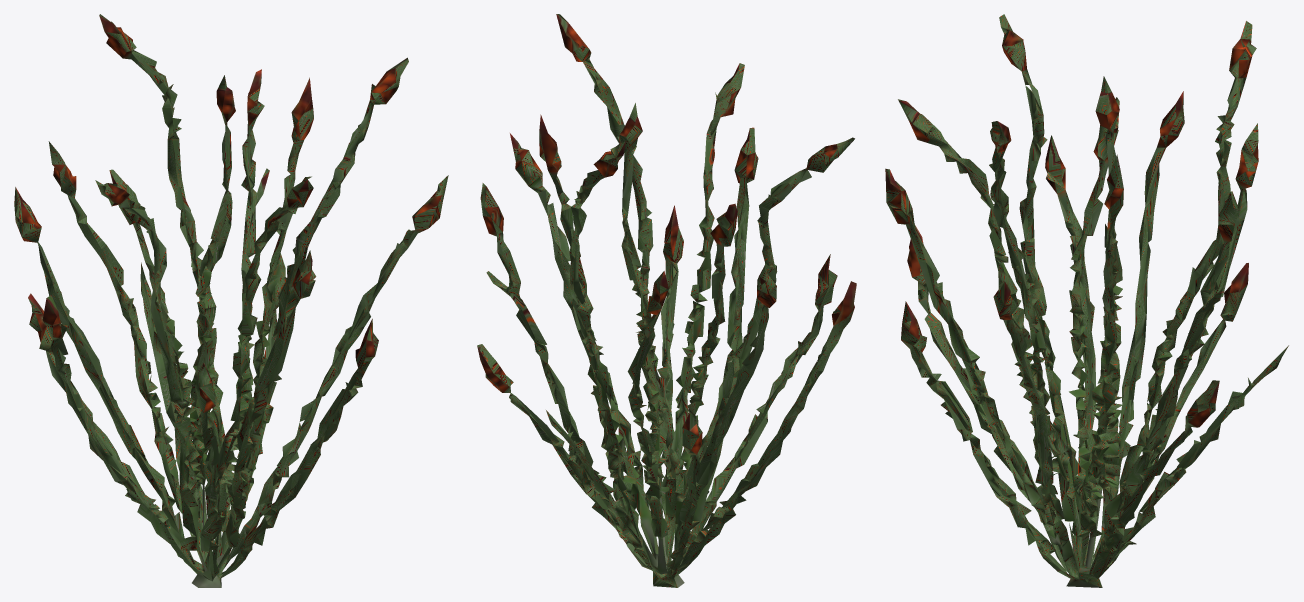
The model's file is ocotillo.glb.
3 views of the same model, side by side, from view 1: azimuth 30°, elevation 25°; view 2: azimuth 150°, elevation 25°; view 3: azimuth 270°, elevation 25° (orthographic). The views are drawn at different scales.
Parts seen in each view (by area): view 1: world; view 2: world; view 3: world.
Boxes of the visible parts, x1=… form: world: x1=14, y1=14, x2=448, y2=587; world: x1=477, y1=14, x2=856, y2=587; world: x1=885, y1=14, x2=1288, y2=587.
Bounding box in the file's own units: 0.7649 × 0.9987 × 0.6691.
Materials: 1 (1 with a texture image).
